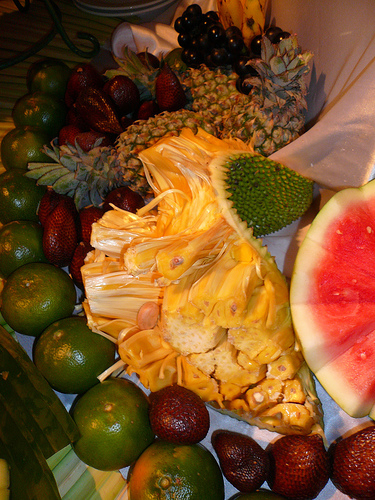jackfruit: (78, 125, 322, 441)
